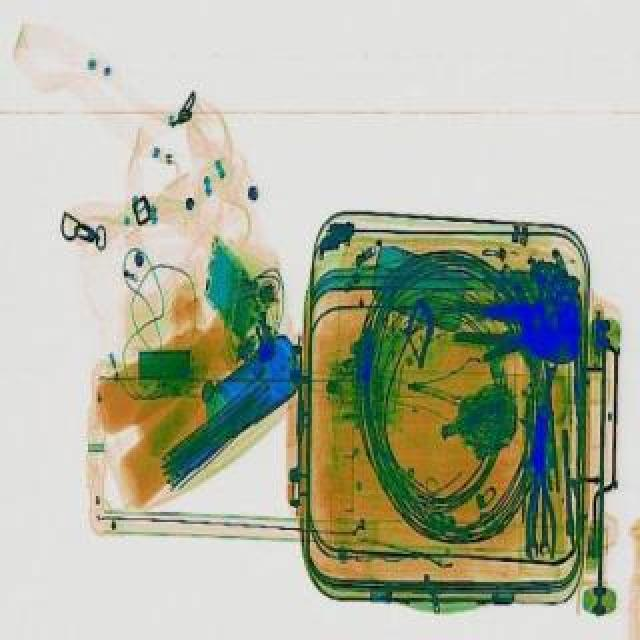scissors: (526, 500, 538, 554), (540, 498, 548, 550)
wrench: (524, 408, 556, 556)
